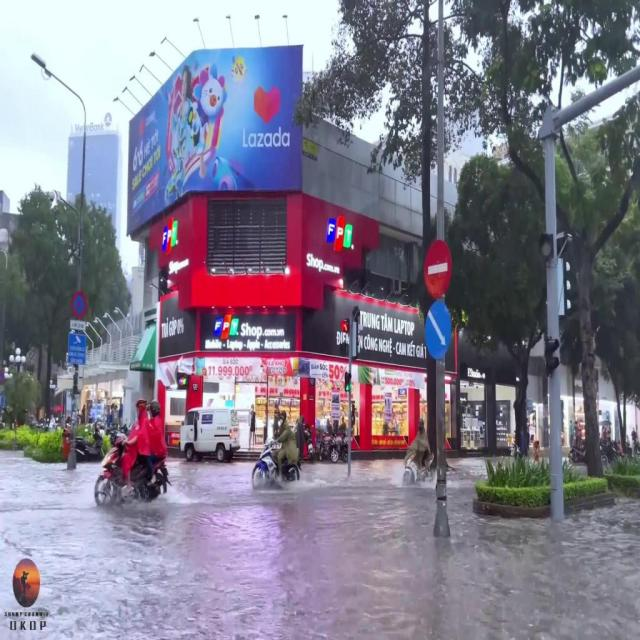cam_dung_xe_va_do_xe: (72, 292, 86, 318)
cam_xe_di_nguoc_chieu: (423, 240, 453, 299)
huong_phai_di_vuot_chuong_ngai_vat_phai: (424, 301, 452, 358)
khac: (68, 334, 85, 364), (70, 320, 87, 330)
